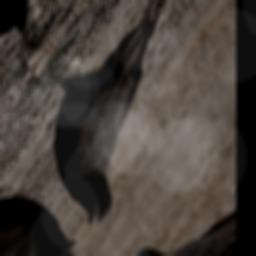Crow: (6, 0, 219, 234)
